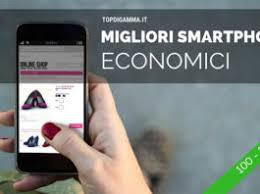Hand: (0, 71, 144, 194)
Smartphone: (18, 20, 92, 169)
